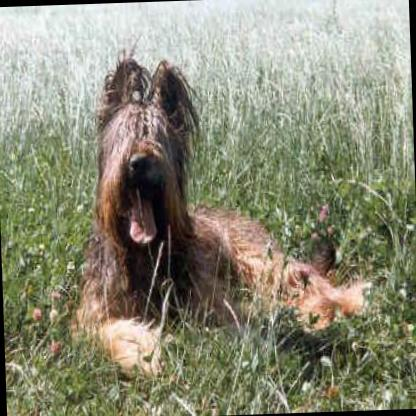briard: (48, 39, 377, 384)
